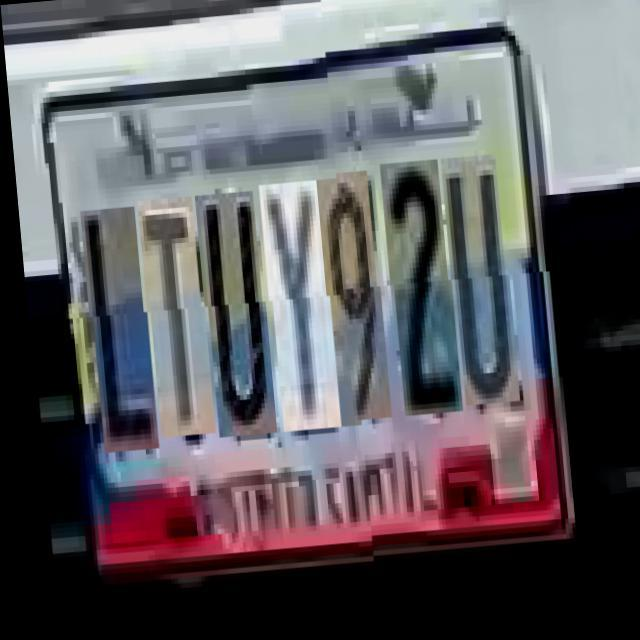2: (380, 172, 455, 428)
9: (316, 182, 384, 432)
L: (80, 208, 150, 454)
T: (136, 199, 208, 440)
U: (195, 195, 269, 441), (441, 168, 512, 419)
Y: (258, 186, 333, 437)
